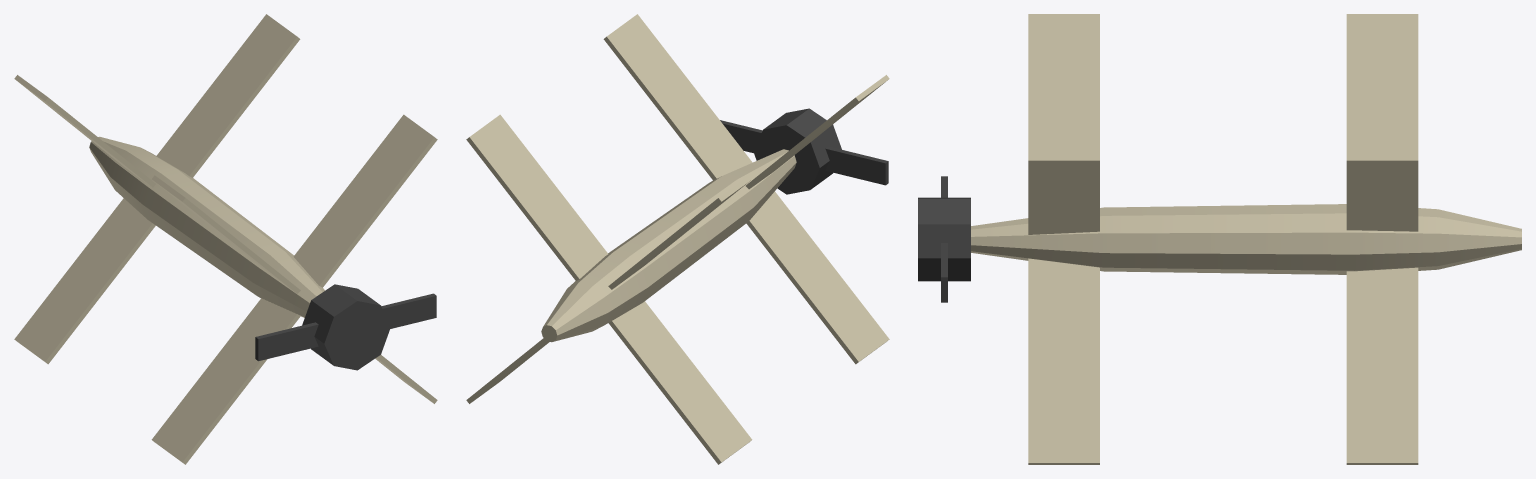
File: usa_lm_alt600.glb
The picture shows the model from 3 angles, left to right: view 1: azimuth 30°, elevation 25°; view 2: azimuth 150°, elevation 25°; view 3: azimuth 270°, elevation 25°; orthographic projection. The views are drawn at different scales.
Parts seen in each view (by area): view 1: body; view 2: body; view 3: body.
Part boxes in pixels (<box>): body: <box>14,14,437,464</box>; body: <box>466,14,889,464</box>; body: <box>918,14,1521,464</box>.
Size of the model in its own units: 0.9682 by 0.9682 by 1.71.
